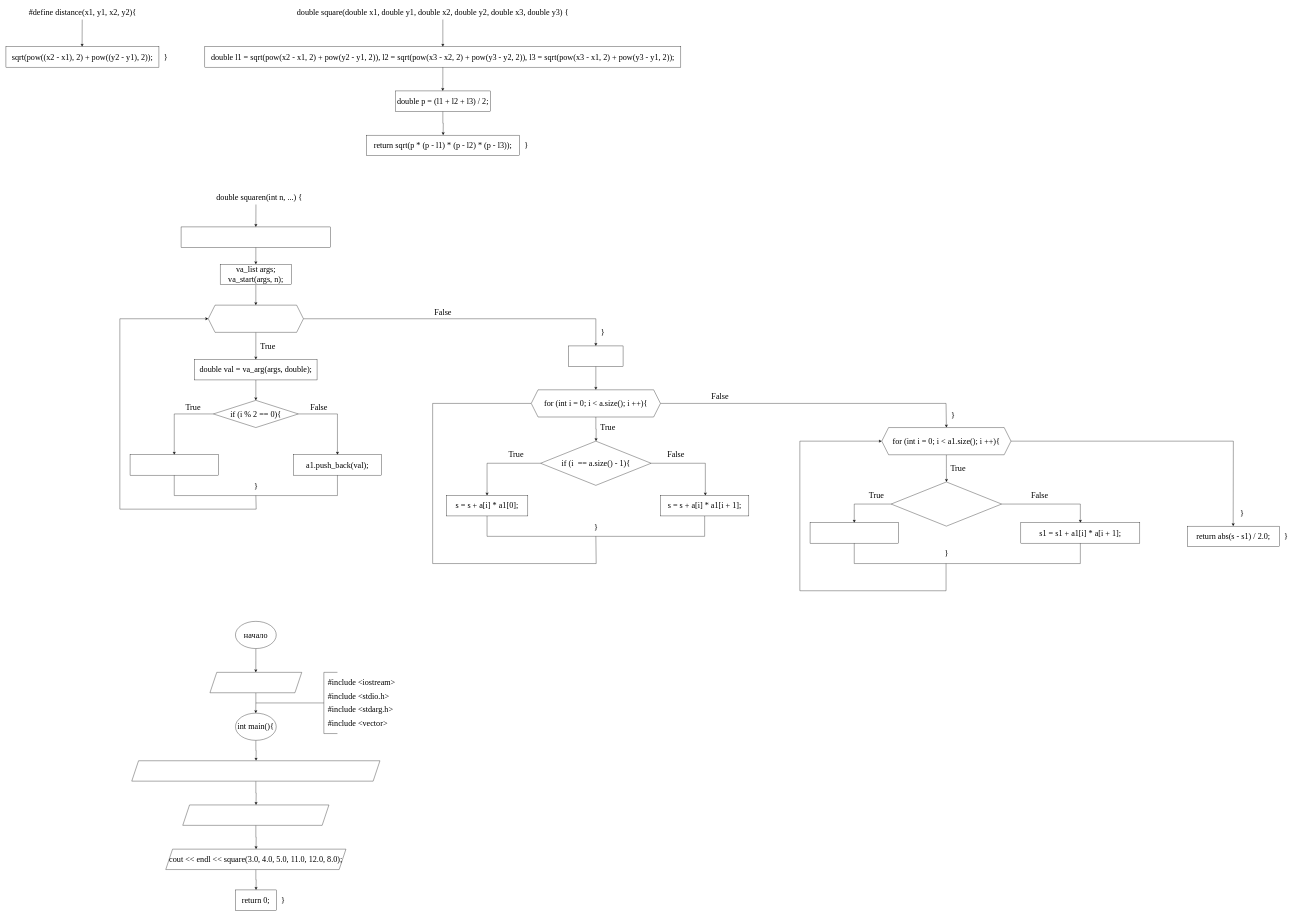
Some shapes in this 1299 by 916 pixel diagram are drawn without their labels. The shapes that lost their labels are listed below. From the top down, each one's box as (x1, y1, x2, y2) in pixels, then its label:
(181, 227, 331, 247): vector <double> a; vector <double> a1; double s = 0.0; double s1 = 0.0;
(208, 305, 303, 332): for (int i = 0; i < n; i ++){
(568, 346, 623, 366): va_end(args);
(130, 454, 218, 475): a.push_back(val);
(891, 482, 1002, 526): if (i == a1.size() - 1){
(810, 522, 898, 543): s1 = s1 + a1[i] * a[0];
(210, 672, 302, 693): using namespace std;
(131, 760, 380, 781): cout << squaren(10, 3.0, 4.0, 5.0, 11.0, 12.0, 8.0, 9.0, 5.0, 5.0, 6.0) << endl;
(182, 805, 329, 825): cout << distance(1.0, 3.0, 5.0, 8.0);
